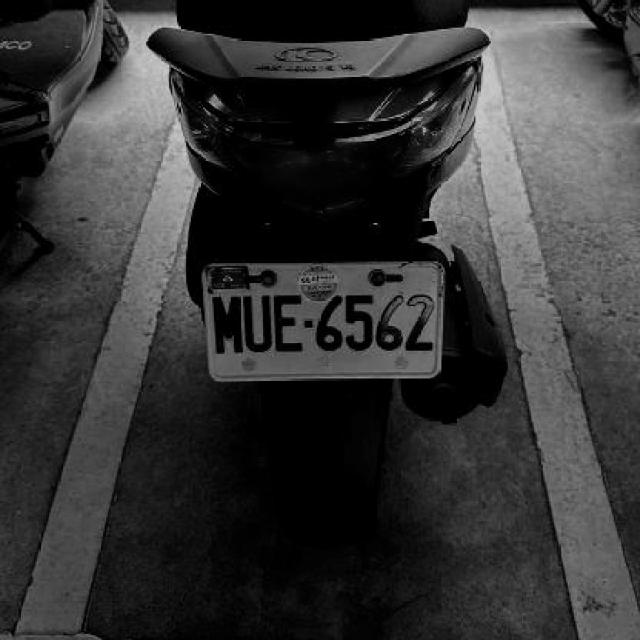-: (303, 318, 314, 329)
2: (314, 289, 346, 351), (402, 294, 436, 352)
5: (342, 292, 376, 352)
6: (370, 291, 404, 352)
E: (272, 292, 308, 352)
M: (209, 292, 243, 357)
U: (241, 294, 274, 357)
